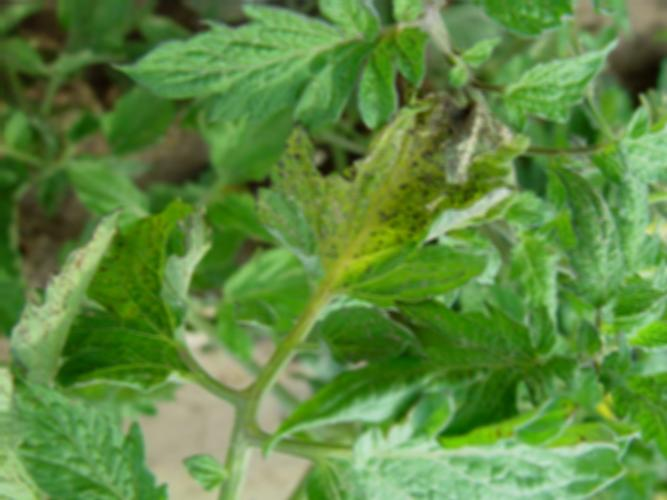Tomato leaf bacterial spot: (253, 80, 551, 324), (10, 162, 228, 420), (112, 2, 445, 145)
